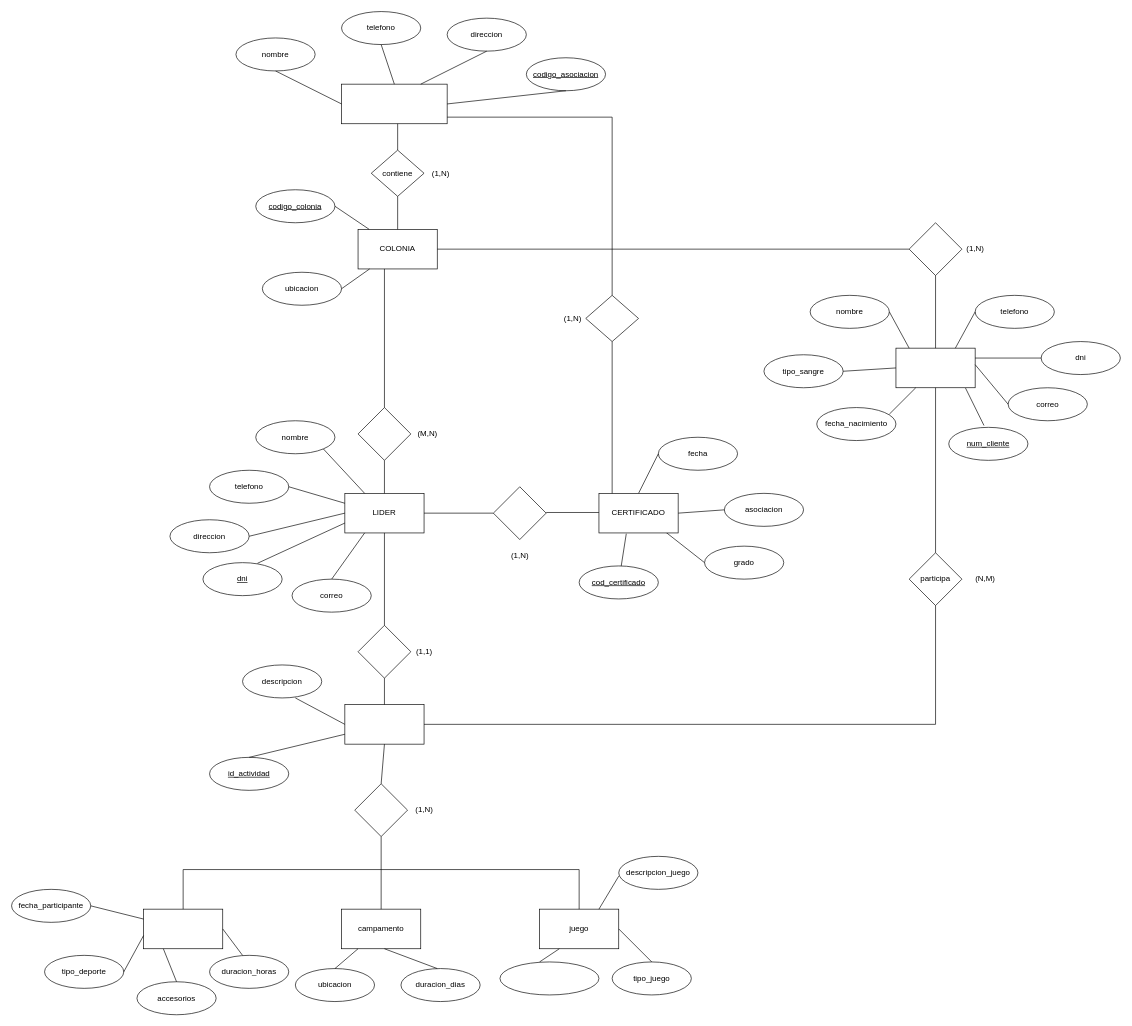
This 1132x1026 diagram has some shape labels left out. The shapes that lost their labels are listed below. From the top down, each one's centre as x and y in pixels, then its label:
the point at 394,103: ASOCIACION_JUVENIL
the point at 935,249: atienden
the point at 612,318: emite
the point at 935,367: CLIENTE
the point at 384,433: trabajan
the point at 519,513: tiene
the point at 384,651: coordina
the point at 384,724: ACTIVIDAD
the point at 381,810: ofrece
the point at 183,928: deporte
the point at 549,978: cantidad_participantes
